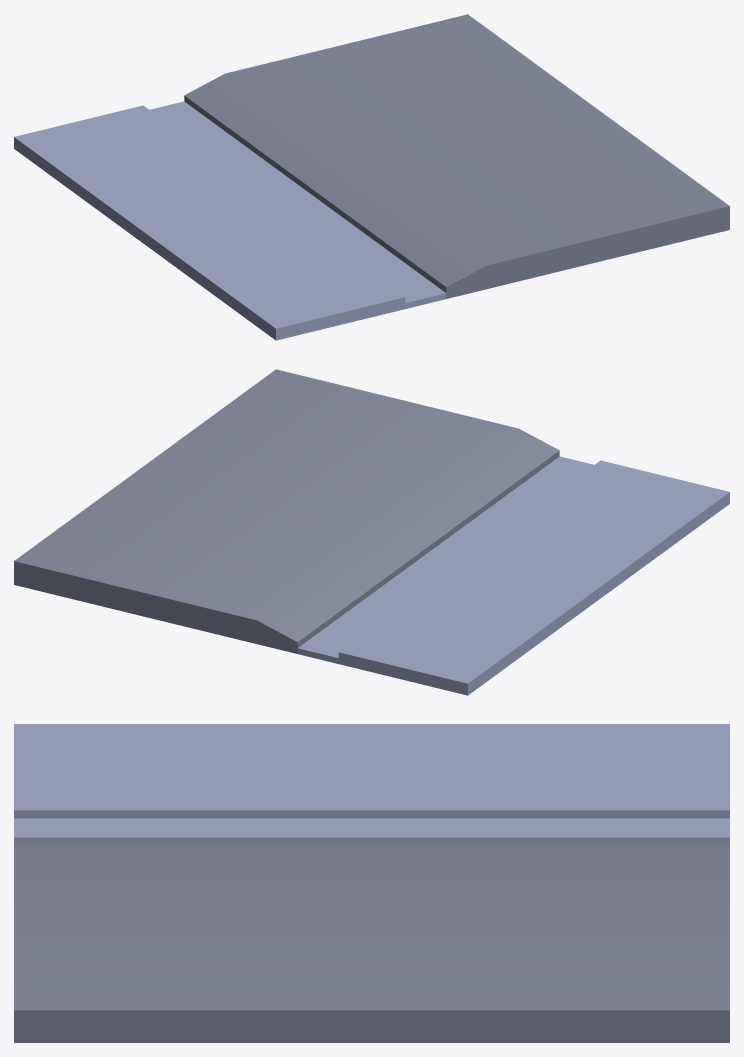
File: road-edge.glb
The picture shows the model from 3 angles, top to bottom: view 1: azimuth 30°, elevation 25°; view 2: azimuth 150°, elevation 25°; view 3: azimuth 270°, elevation 25°; orthographic projection. The views are drawn at different scales.
Parts seen in each view (by area): view 1: road-edge; view 2: road-edge; view 3: road-edge.
Boxes of the visible parts, box(x1,y1,x2,y2) form: road-edge: box(14, 14, 729, 340); road-edge: box(14, 369, 729, 695); road-edge: box(14, 724, 729, 1042).
Bounding box in the file's own units: 1 × 0.0501 × 1.
Materials: 1 (1 with a texture image).
